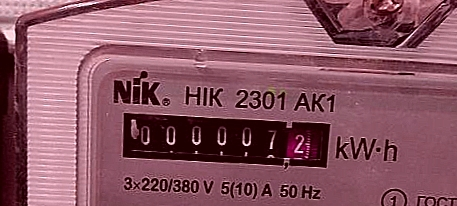0: (138, 123, 154, 148), (215, 125, 231, 149), (190, 124, 205, 148), (240, 126, 255, 149), (164, 125, 178, 147)
2: (293, 133, 307, 157)
7: (266, 127, 280, 152)
screen: (111, 100, 342, 181)
